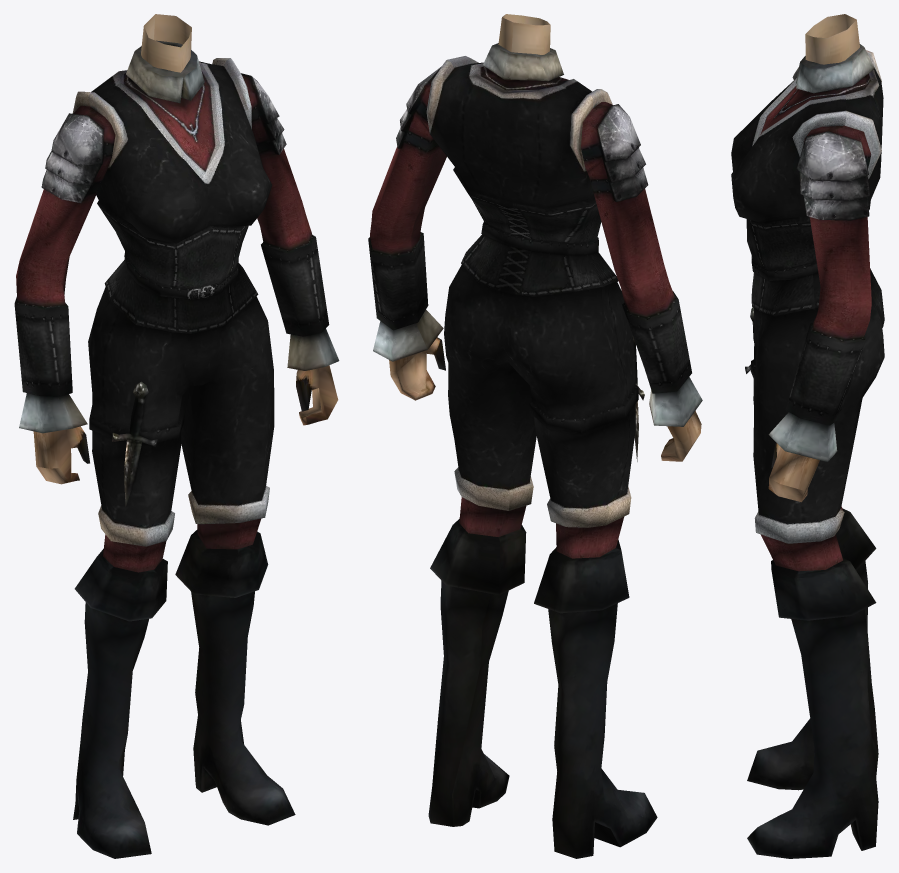
Rendered from KM_IVY_ARMOR_03.glb.
3 renders of one model, left to right at view 1: azimuth 30°, elevation 25°; view 2: azimuth 150°, elevation 25°; view 3: azimuth 270°, elevation 25°, orthographic. The views are drawn at different scales.
Parts seen in each view (by area): view 1: KM_IVY_ARMOR_03; view 2: KM_IVY_ARMOR_03; view 3: KM_IVY_ARMOR_03.
Boxes of the visible parts, box(x1,y1,x2,y2) form: KM_IVY_ARMOR_03: box(14, 14, 339, 858); KM_IVY_ARMOR_03: box(368, 14, 702, 858); KM_IVY_ARMOR_03: box(731, 14, 884, 858).
Size of the model in its own units: 0.6694 by 1.67 by 0.2931.
2 materials, 2 textured.
